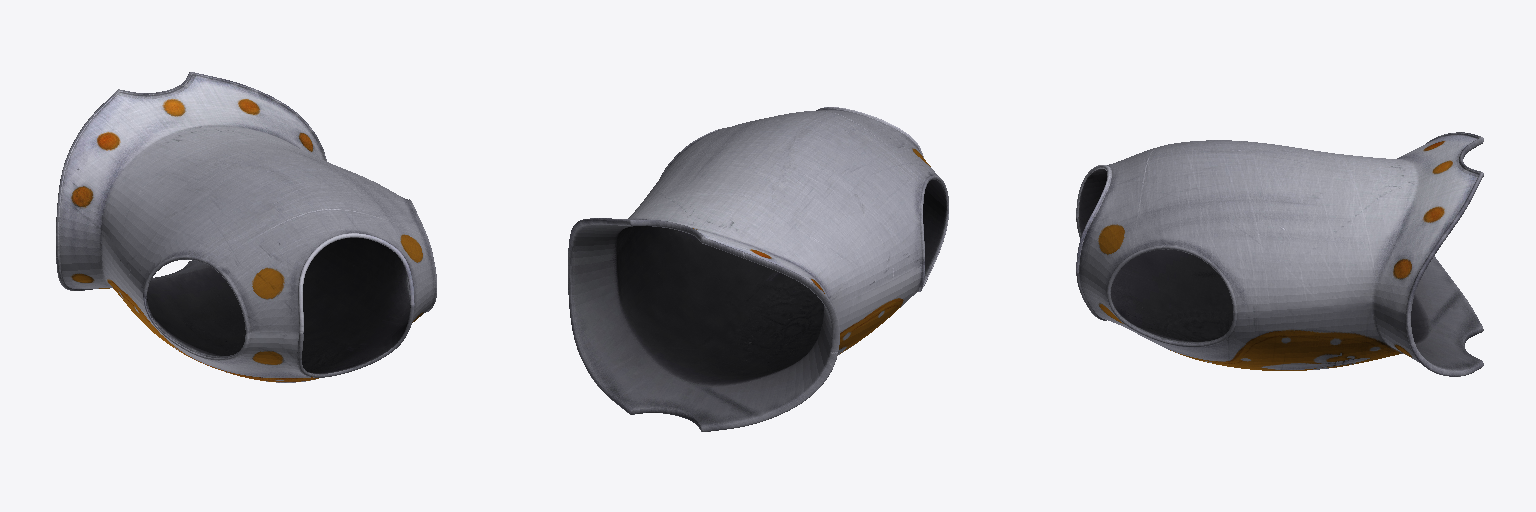
3 views of the same model, side by side, from view 1: azimuth 30°, elevation 25°; view 2: azimuth 150°, elevation 25°; view 3: azimuth 270°, elevation 25° (orthographic).
Parts seen in each view (by area): view 1: 13591_Breastplate_Armor_ver_C_v1; view 2: 13591_Breastplate_Armor_ver_C_v1; view 3: 13591_Breastplate_Armor_ver_C_v1.
Boxes of the visible parts, x1,y1,x2,y2 form: 13591_Breastplate_Armor_ver_C_v1: [56, 72, 436, 382]; 13591_Breastplate_Armor_ver_C_v1: [568, 107, 948, 431]; 13591_Breastplate_Armor_ver_C_v1: [1076, 132, 1483, 376].
Bounding box in the file's own units: 29.9 × 21.58 × 38.82.
Materials: 1 (1 with a texture image).